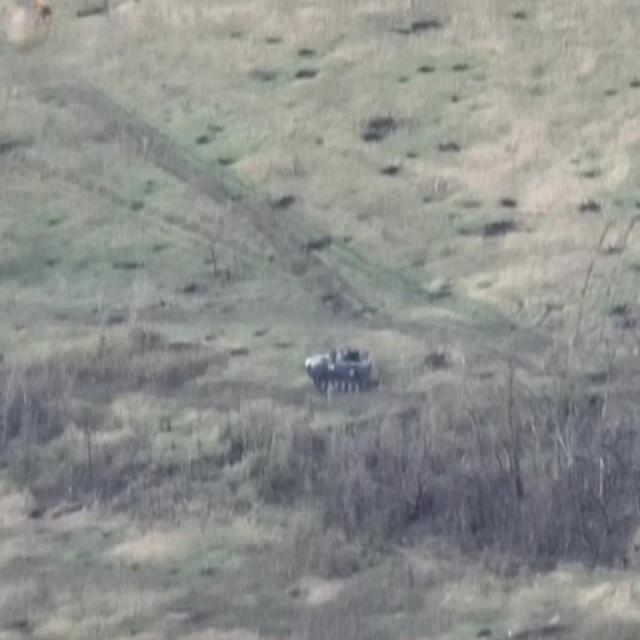AIFV: (300, 340, 375, 398)
